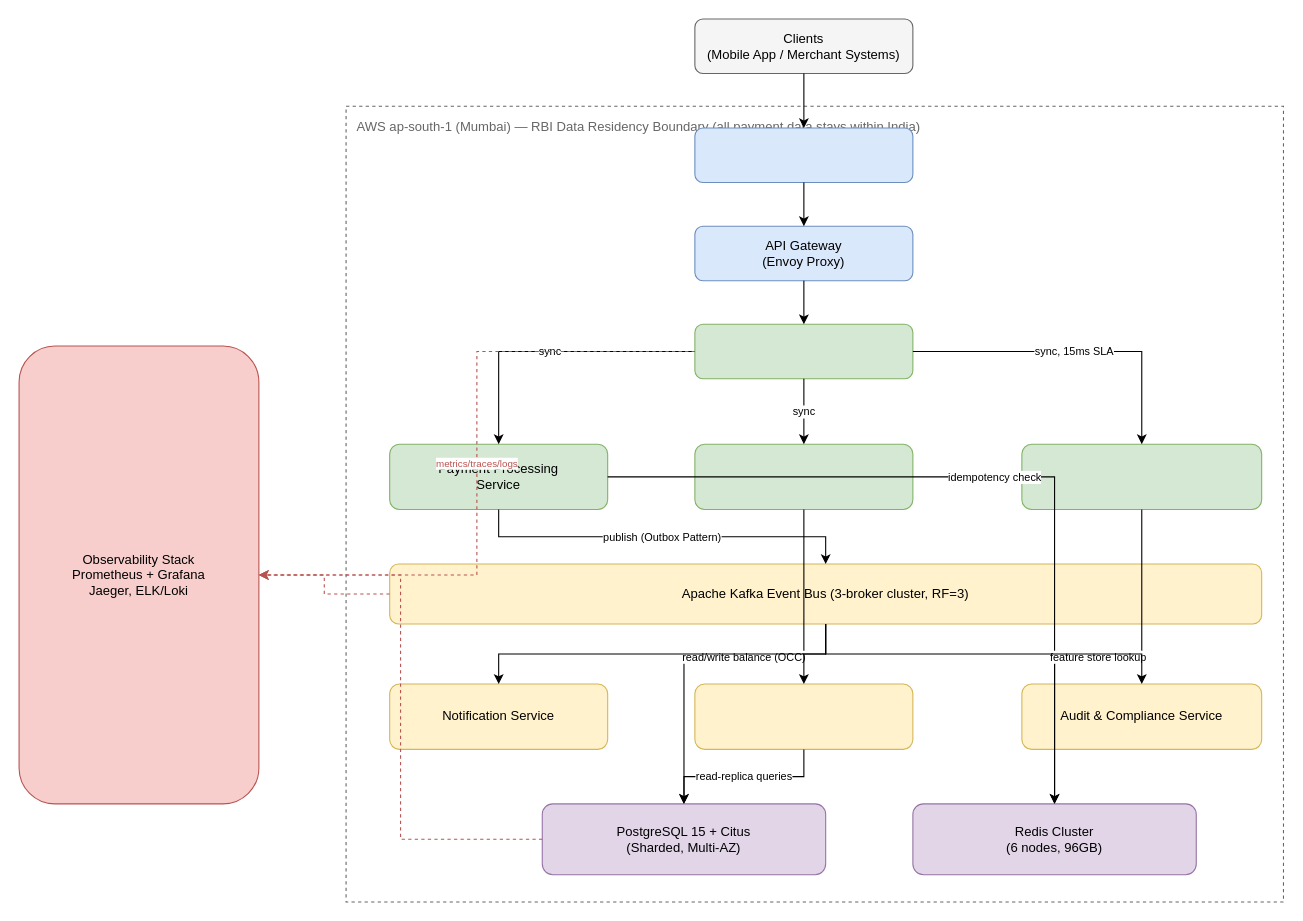
This 1303x921 diagram has some shape labels left out. The centre of each missing label's shape, as x and y in pixels:
"Account Service" belongs at [803,476].
"Fraud Detection Service (15ms SLA)" belongs at [1141,476].
"Load Balancer (AWS ALB)" belongs at [803,155].
"Reconciliation Service" belongs at [803,716].
"Transaction Orchestrator (Saga State Machine)" belongs at [803,351].
